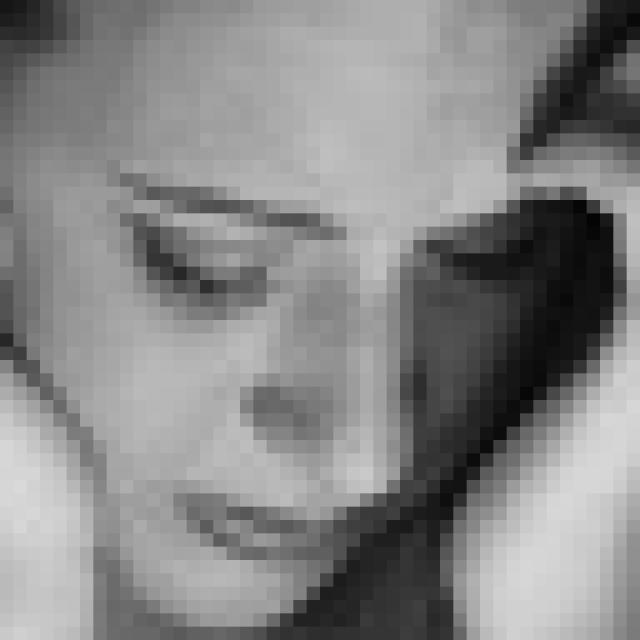sad: (98, 171, 538, 570)
